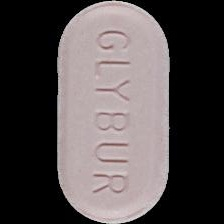0093-9433: (0, 0, 224, 224)
